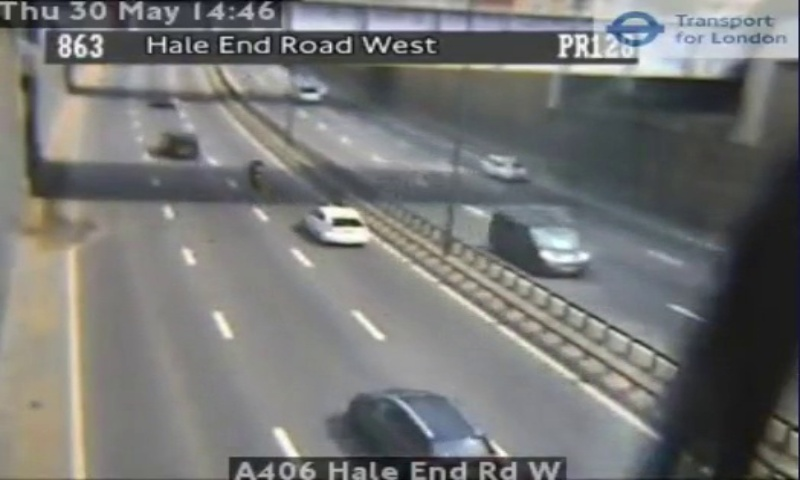car: (351, 389, 494, 457), (302, 205, 366, 244)
